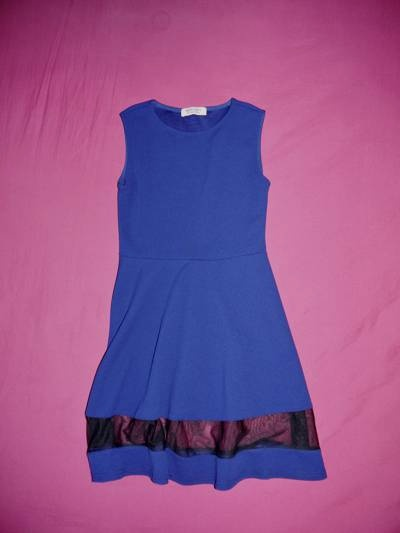Dress: (76, 72, 357, 500)
